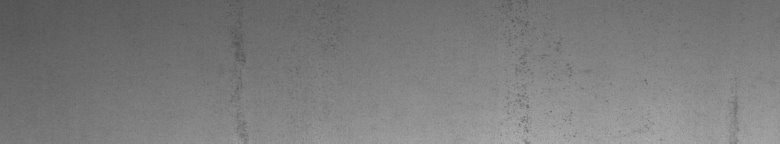ib: (508, 16, 591, 133)
